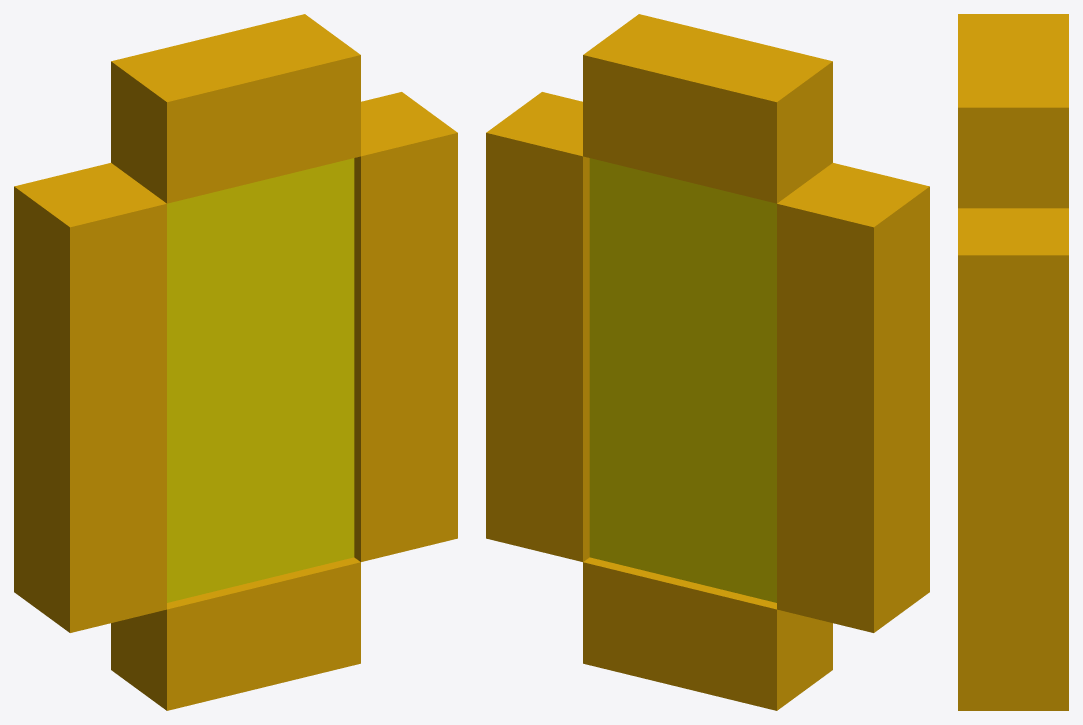
Rendered from coin.fbx.
3 renders of one model, left to right at view 1: azimuth 30°, elevation 25°; view 2: azimuth 150°, elevation 25°; view 3: azimuth 270°, elevation 25°, orthographic.
Parts seen in each view (by area): view 1: Cube; view 2: Cube; view 3: Cube.
Part boxes in pixels (left/top/right/bottom): Cube: left=14, top=14, right=457, bottom=710; Cube: left=486, top=14, right=929, bottom=710; Cube: left=958, top=14, right=1068, bottom=710.
Size of the model in its own units: 400 by 600 by 100.
